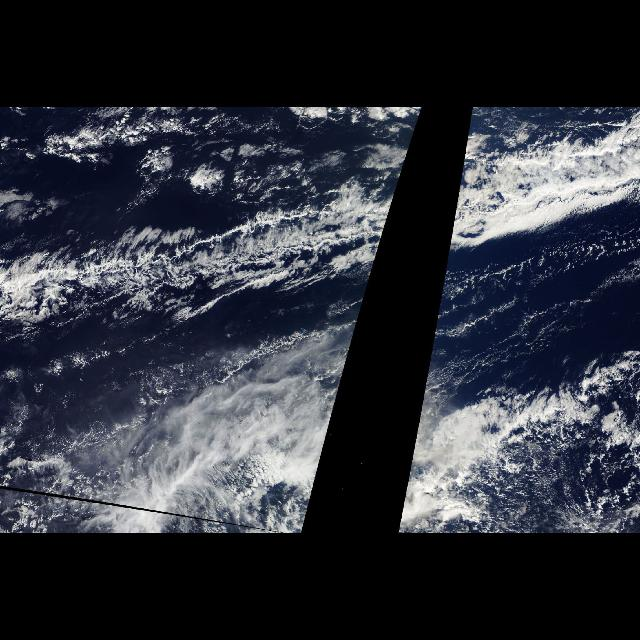Fish: (1, 133, 413, 349), (434, 133, 628, 321)
